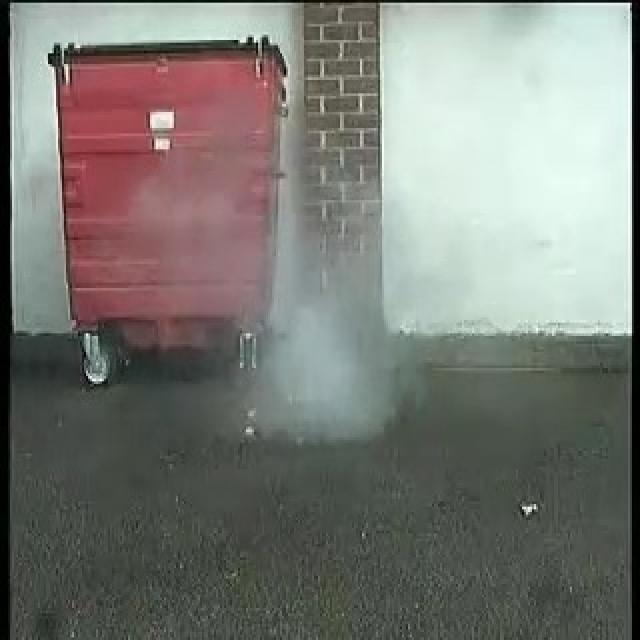smoke: (272, 227, 414, 426)
